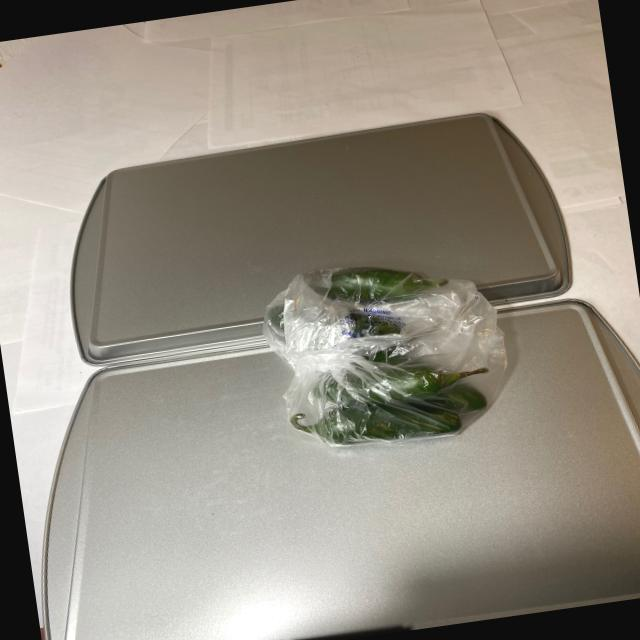chilli: (259, 245, 499, 468)
